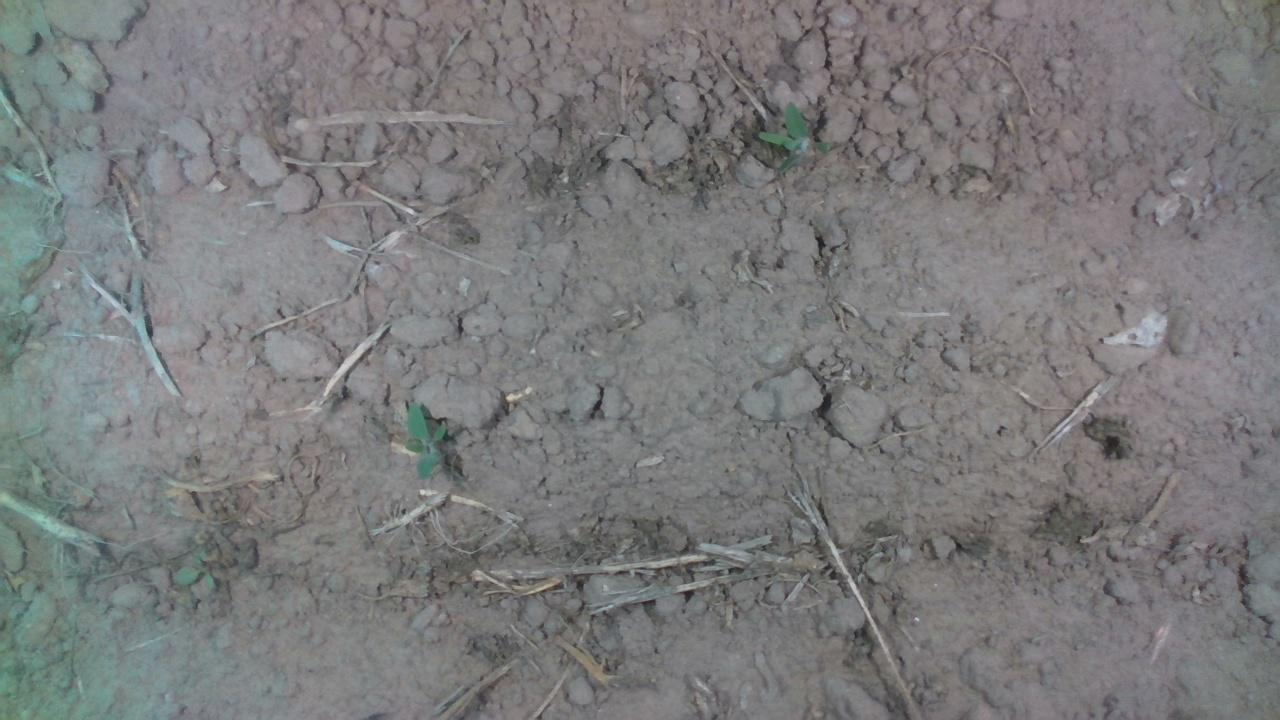weed: (756, 96, 830, 175), (401, 397, 447, 480)
